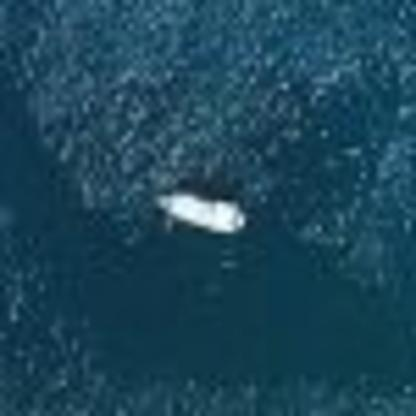ship: (141, 176, 264, 249)
